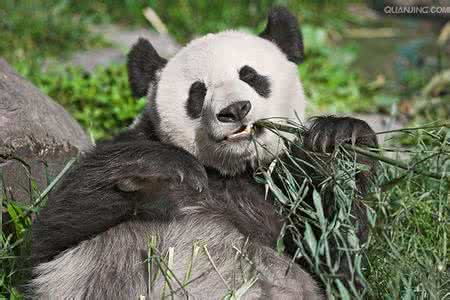panda: (30, 4, 378, 300)
